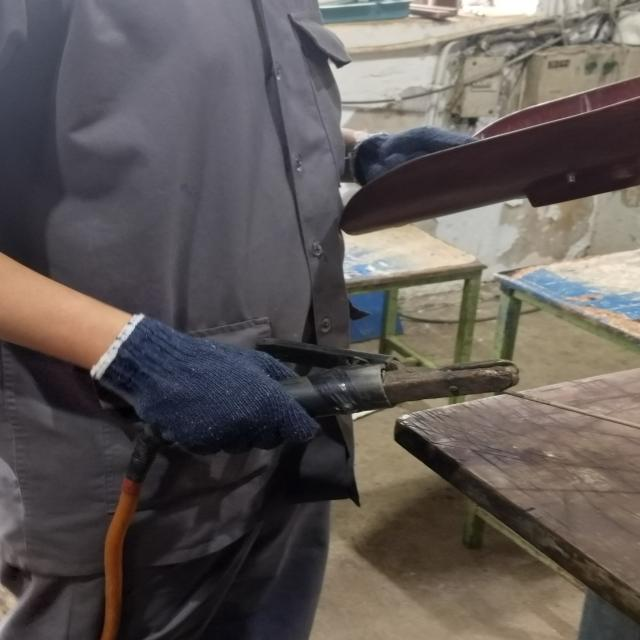Gloves-Detection: (119, 320, 315, 465)
